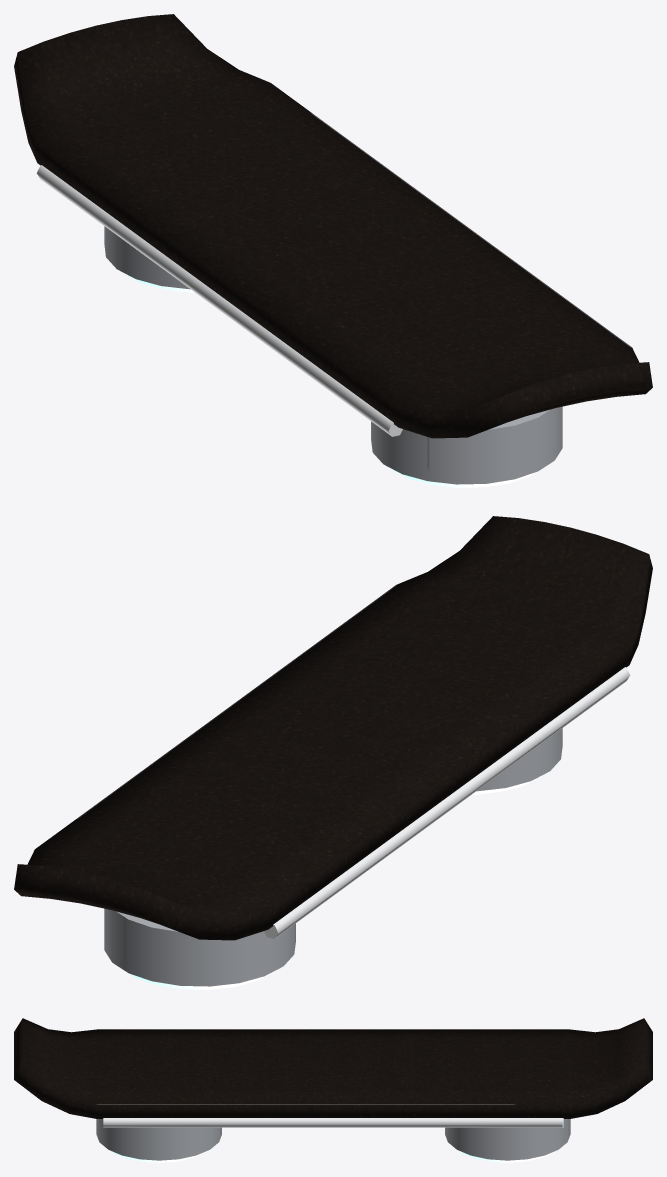
The model's file is hoverboard.glb.
3 views of the same model, one above another, from view 1: azimuth 30°, elevation 25°; view 2: azimuth 150°, elevation 25°; view 3: azimuth 270°, elevation 25° (orthographic). The views are drawn at different scales.
Parts seen in each view (by area): view 1: hoverboard; view 2: hoverboard; view 3: hoverboard.
Part boxes in pixels (x1,y1,x2,y2): hoverboard: (14,14,652,487); hoverboard: (14,516,652,989); hoverboard: (14,1018,652,1162).
Bounding box in the file's own units: 0.3768 × 0.2342 × 1.32.
Materials: 1 (1 with a texture image).
